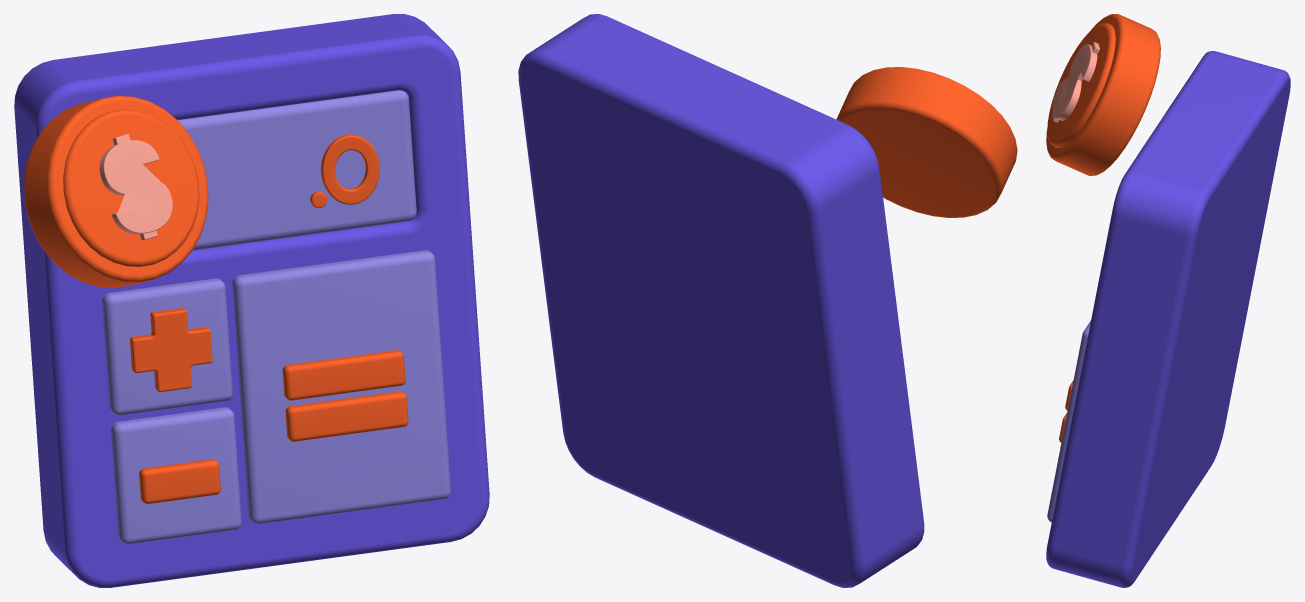
File: Calculator.fbx
3 views of the same model, side by side, from view 1: azimuth 30°, elevation 25°; view 2: azimuth 150°, elevation 25°; view 3: azimuth 270°, elevation 25° (orthographic). The views are drawn at different scales.
Visible parts, largest first — view 1: Cube.005, Cube.007, Cube.011, Cube.006, Cylinder.078, Cube.008, Text.007, Cube.010, Cube.009, Circle; view 2: Cube.005, Cylinder.078; view 3: Cube.005, Cylinder.078, Text.007, Cube.007.
Boxes of the visible parts, x1,y1,x2,y2 form: Cube.005: [14, 14, 489, 587]; Cube.007: [232, 250, 450, 524]; Cube.011: [178, 90, 416, 250]; Cube.006: [102, 278, 241, 544]; Cylinder.078: [24, 95, 208, 287]; Cube.008: [282, 350, 408, 441]; Text.007: [99, 134, 172, 240]; Cube.010: [130, 308, 212, 391]; Cube.009: [139, 459, 220, 503]; Circle: [321, 134, 379, 204]; Cube.005: [518, 14, 924, 587]; Cylinder.078: [836, 67, 1017, 217]; Cube.005: [1046, 51, 1290, 587]; Cylinder.078: [1046, 14, 1160, 175]; Text.007: [1052, 42, 1099, 122]; Cube.007: [1047, 321, 1090, 522].
Bounding box in the file's own units: 342 × 367 × 188.
